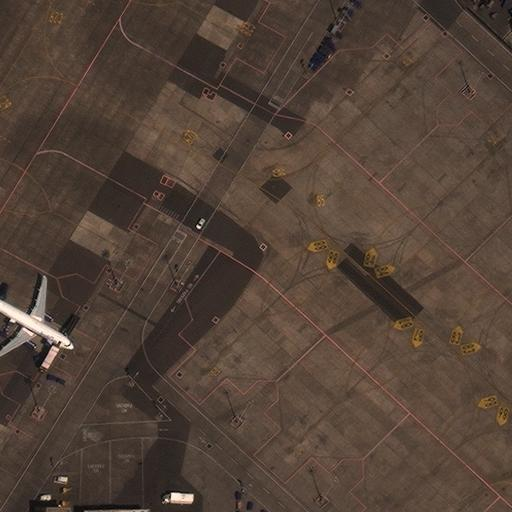Medium Civil Transport: (0, 277, 73, 357)
